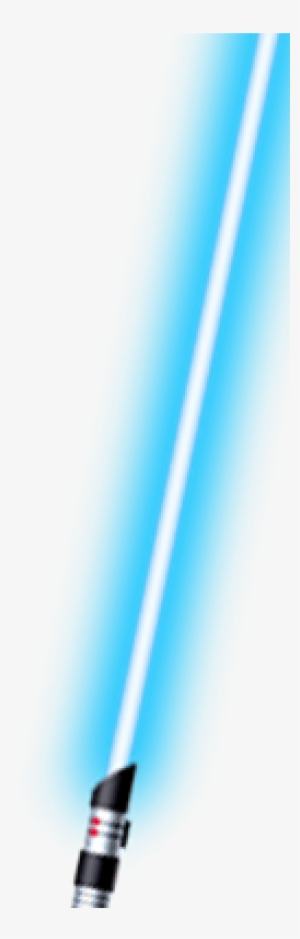lightsaber: (69, 0, 300, 928)
